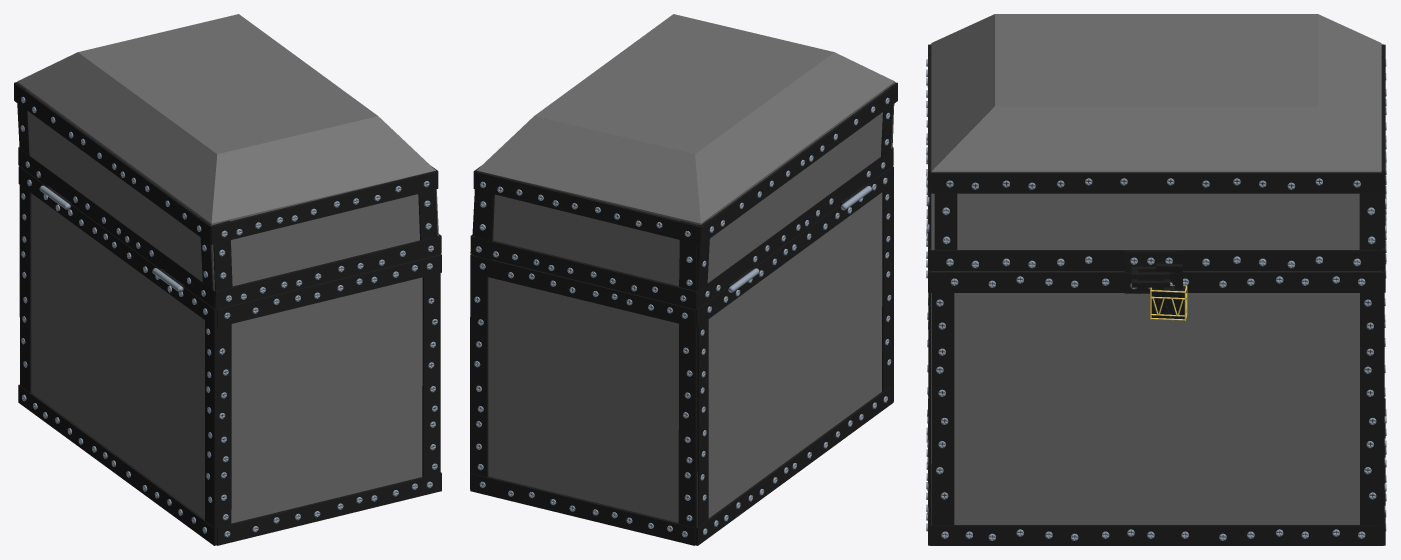
Rendered from chest_C-with-Lock -1.fbx.
The picture shows the model from 3 angles, left to right: view 1: azimuth 30°, elevation 25°; view 2: azimuth 150°, elevation 25°; view 3: azimuth 270°, elevation 25°; orthographic projection. The views are drawn at different scales.
Visible parts, largest first — view 1: Cube.166; view 2: Cube.166; view 3: Cube.166.
Part boxes in pixels (x1,y1,x2,y2): Cube.166: (14, 14, 441, 545); Cube.166: (470, 14, 897, 545); Cube.166: (926, 14, 1386, 545).
Bounding box in the file's own units: 44.7 × 61.92 × 61.37.
